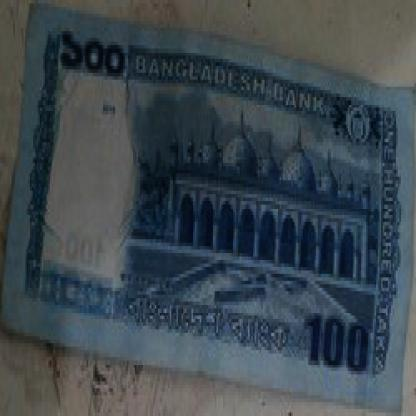one hundred taka: (303, 305, 373, 378), (58, 17, 126, 90)
